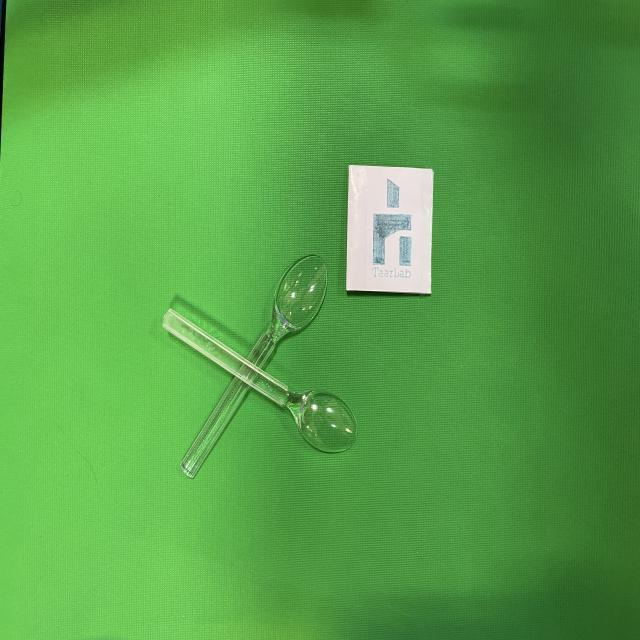plastic utensil: (181, 253, 330, 476), (162, 310, 357, 453)
